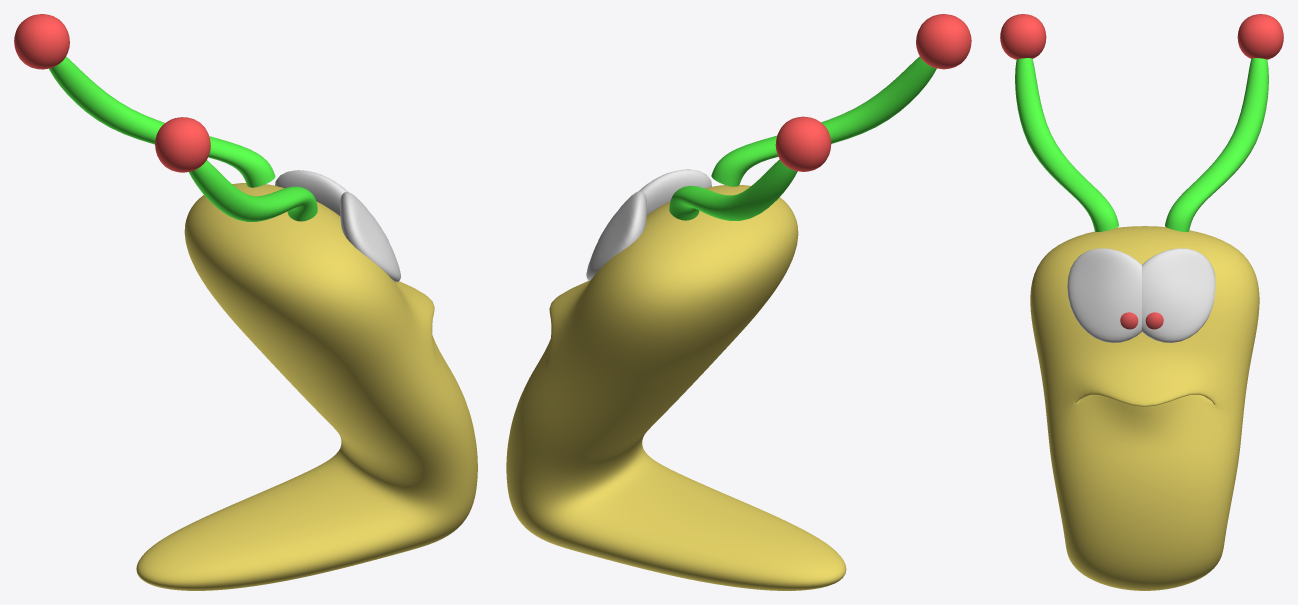
File: oneal.gltf
3 renders of one model, left to right at view 1: azimuth 30°, elevation 25°; view 2: azimuth 150°, elevation 25°; view 3: azimuth 270°, elevation 25°, orthographic. The views are drawn at different scales.
Visible parts, largest first — view 1: SlugBody_CubeOpenMesh, SlugAntena_Cube, SlugEyes_Sphere; view 2: SlugBody_CubeOpenMesh, SlugAntena_Cube, SlugEyes_Sphere; view 3: SlugBody_CubeOpenMesh, SlugAntena_Cube, SlugEyes_Sphere, SlugPupils_Cube.001.
Part boxes in pixels (x1,y1,x2,y2): SlugBody_CubeOpenMesh: (136, 183, 477, 590); SlugAntena_Cube: (14, 14, 317, 221); SlugEyes_Sphere: (275, 170, 400, 282); SlugBody_CubeOpenMesh: (506, 185, 846, 590); SlugAntena_Cube: (669, 14, 971, 220); SlugEyes_Sphere: (586, 169, 711, 280); SlugBody_CubeOpenMesh: (1030, 226, 1259, 590); SlugAntena_Cube: (1000, 14, 1283, 231); SlugEyes_Sphere: (1067, 248, 1215, 342); SlugPupils_Cube.001: (1120, 312, 1163, 329).
Size of the model in its own units: 4.79 by 6.69 by 3.8.
